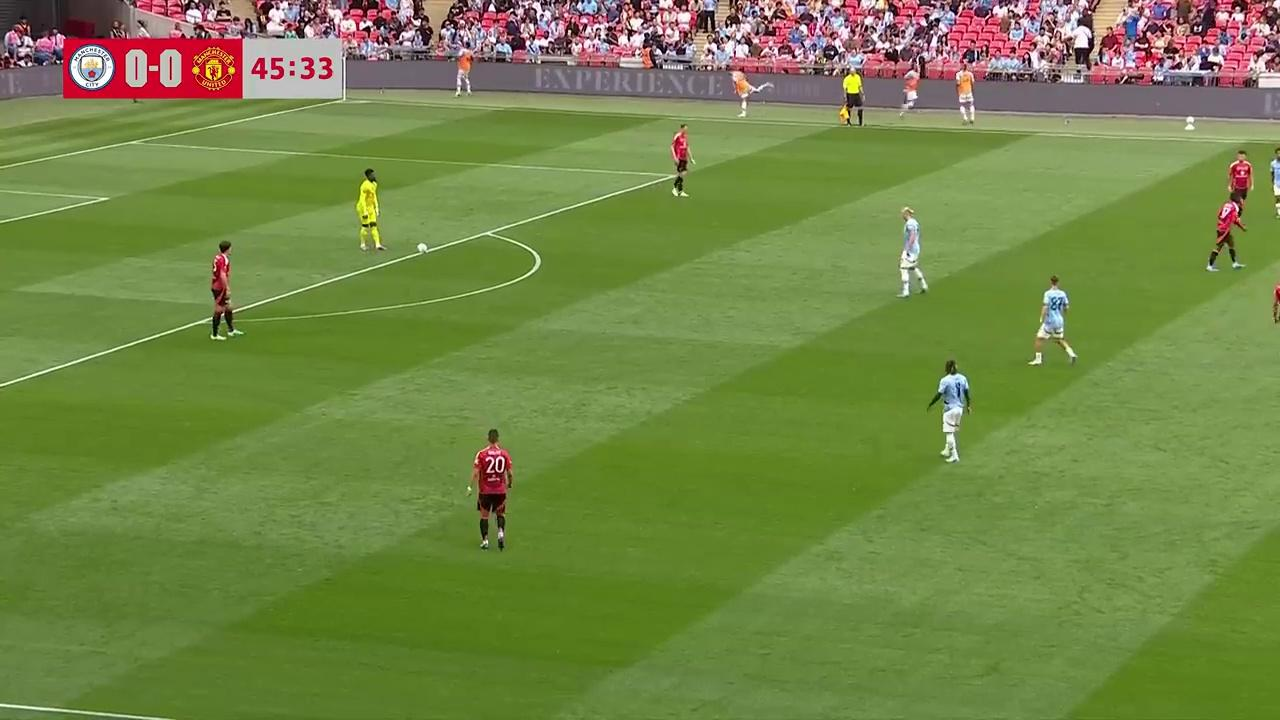ball: (414, 239, 428, 254)
player: (466, 428, 513, 551), (925, 358, 972, 463), (1028, 274, 1077, 367), (1206, 197, 1246, 272), (210, 241, 240, 339), (897, 206, 928, 297), (356, 168, 385, 253), (670, 125, 694, 198), (1228, 150, 1253, 215), (1269, 151, 1280, 215), (1270, 268, 1280, 328)
referee: (839, 68, 864, 128)
